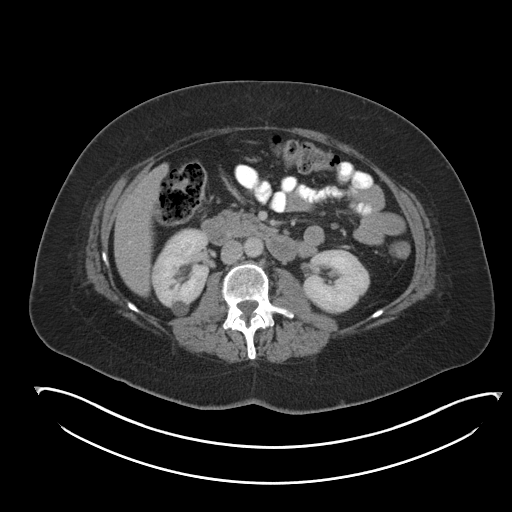Lesion: (170, 300, 191, 319)
